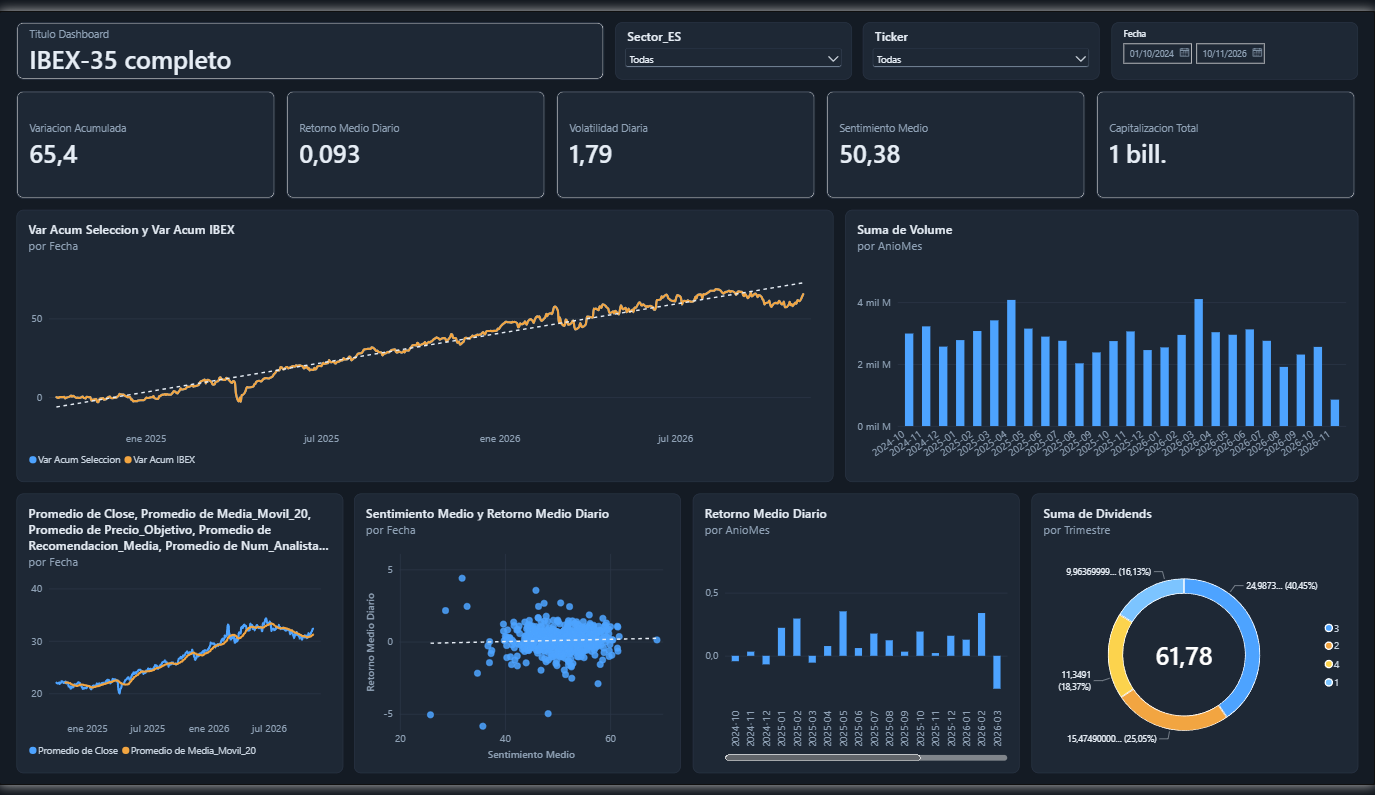

The dashboard page shown, as its layout file describes it:
{"tool":"powerbi","page":{"name":"Dashboard","canvas":[1920,1080],"ordinal":3},"visuals":[{"type":"slicer","fields":{"Values":["Empresa.Sector_ES"]},"box":[753.5,31.4,280.8,68],"z":0},{"type":"slicer","fields":{"Values":["Empresa.Ticker"]},"box":[1055.2,26.2,280.8,80.2],"z":1000},{"type":"slicer","fields":{"Values":["Fecha.Fecha"]},"box":[1360.5,19.2,280.8,95.9],"z":2000},{"type":"cardVisual","fields":{"Data":["Hechos.Variacion Acumulada"]},"box":[36.6,115.1,218,174.4],"z":3000},{"type":"cardVisual","fields":{"Data":["Hechos.Retorno Medio Diario"]},"box":[375,115.1,218,174.4],"z":4000},{"type":"cardVisual","fields":{"Data":["Hechos.Volatilidad Diaria"]},"box":[741.3,115.1,218,174.4],"z":5000},{"type":"cardVisual","fields":{"Data":["Hechos.Sentimiento Medio"]},"box":[1088.4,115.1,218,174.4],"z":6000},{"type":"cardVisual","fields":{"Data":["Hechos.Capitalizacion Total"]},"box":[1447.7,115.1,218,174.4],"z":7000},{"type":"lineChart","fields":{"Category":["Fecha.Fecha"],"Y":["Hechos.Var Acum Seleccion","Hechos.Var Acum IBEX"]},"box":[43.6,314,1058.7,376.7],"z":8000},{"type":"clusteredColumnChart","fields":{"Category":["Fecha.AnioMes"],"Y":["Sum(Hechos.Volume)"]},"box":[1133.7,314,736,376.7],"z":9000},{"type":"lineChart","fields":{"Category":["Fecha.Fecha"],"Y":["Avg(Hechos.Close)","Avg(Hechos.Media_Movil_20)"]},"box":[66.3,711.6,395.9,322.7],"z":10000},{"type":"scatterChart","fields":{"Category":["Fecha.Fecha"],"X":["Hechos.Sentimiento Medio"],"Y":["Hechos.Retorno Medio Diario"]},"box":[462.2,711.6,444.8,322.7],"z":11000},{"type":"clusteredColumnChart","fields":{"Category":["Fecha.AnioMes"],"Y":["Hechos.Retorno Medio Diario"]},"box":[907,711.6,610.5,322.7],"z":12000},{"type":"donutChart","fields":{"Category":["Fecha.Trimestre"],"Y":["Sum(Hechos.Dividends)"]},"box":[1517.4,711.6,385.5,322.7],"z":13000},{"type":"cardVisual","fields":{"Data":["Hechos.Titulo Dashboard"]},"box":[66.3,19.2,556.4,75],"z":13001}]}

Visuals, with their boxes in screenshot pixels (x1, y1, x2, y2), scaled from the page's 1920x1080 canvas onto the 1375x795 screenshot:
slicer - Empresa.Sector_ES: locate(540, 23, 741, 73)
slicer - Empresa.Ticker: locate(756, 19, 957, 78)
slicer - Fecha.Fecha: locate(974, 14, 1175, 85)
cardVisual - Hechos.Variacion Acumulada: locate(26, 85, 182, 213)
cardVisual - Hechos.Retorno Medio Diario: locate(269, 85, 425, 213)
cardVisual - Hechos.Volatilidad Diaria: locate(531, 85, 687, 213)
cardVisual - Hechos.Sentimiento Medio: locate(779, 85, 936, 213)
cardVisual - Hechos.Capitalizacion Total: locate(1037, 85, 1193, 213)
lineChart - Fecha.Fecha x Hechos.Var Acum Seleccion: locate(31, 231, 789, 508)
clusteredColumnChart - Fecha.AnioMes x Sum(Hechos.Volume): locate(812, 231, 1339, 508)
lineChart - Fecha.Fecha x Avg(Hechos.Close): locate(47, 524, 331, 761)
scatterChart - Fecha.Fecha x Hechos.Sentimiento Medio: locate(331, 524, 650, 761)
clusteredColumnChart - Fecha.AnioMes x Hechos.Retorno Medio Diario: locate(650, 524, 1087, 761)
donutChart - Fecha.Trimestre x Sum(Hechos.Dividends): locate(1087, 524, 1363, 761)
cardVisual - Hechos.Titulo Dashboard: locate(47, 14, 446, 69)
